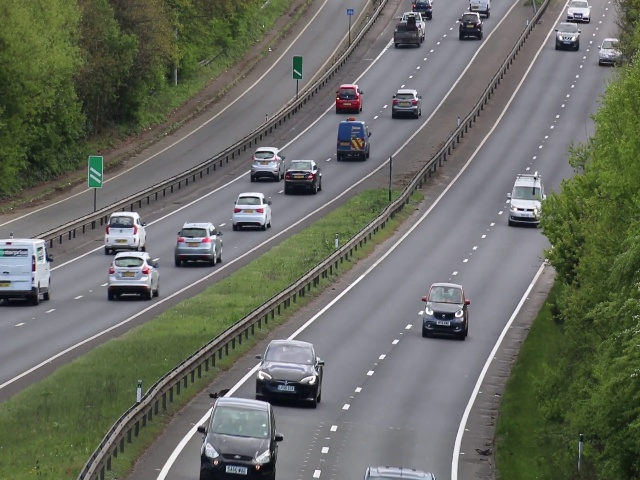car: (199, 394, 277, 480), (253, 338, 322, 408), (1, 237, 53, 308), (421, 281, 468, 341), (105, 252, 161, 300), (172, 222, 224, 269), (104, 208, 147, 254), (508, 172, 540, 227), (335, 119, 371, 165), (232, 190, 272, 230), (283, 158, 322, 196), (394, 11, 427, 49), (251, 146, 285, 181), (390, 89, 423, 118), (336, 82, 363, 114), (553, 20, 579, 51), (458, 12, 485, 40), (567, 1, 593, 22), (597, 35, 614, 61)
